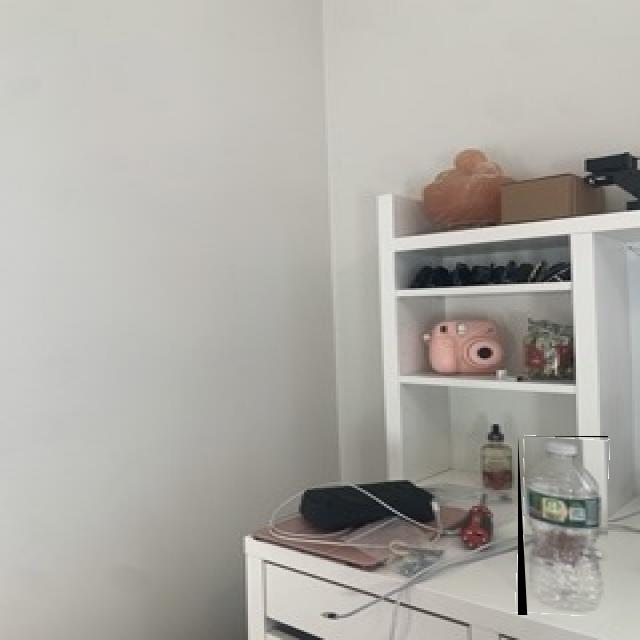water_bottle: (518, 436, 608, 615)
